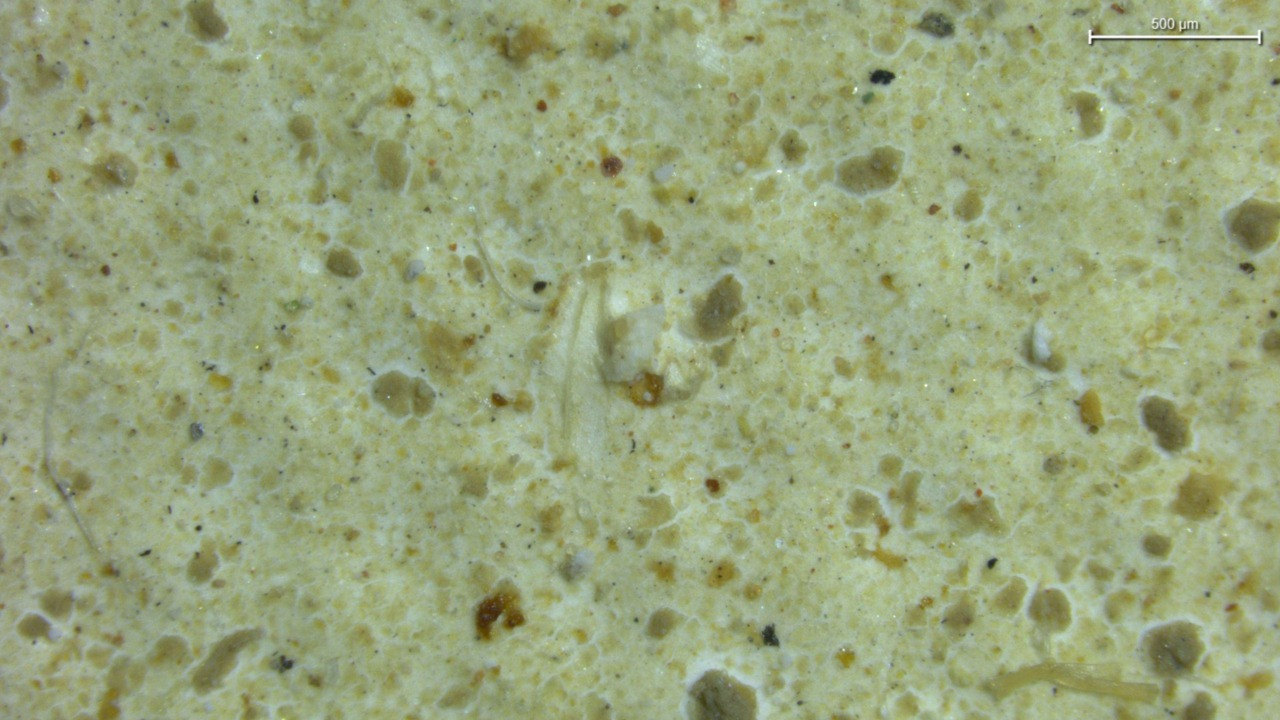microplastic_fragment: (598, 305, 665, 383), (560, 551, 594, 581), (1032, 320, 1051, 363)
